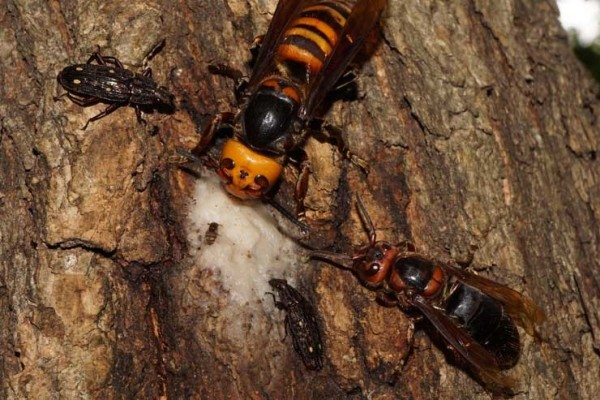asian_giant_hornet: (197, 1, 371, 205)
